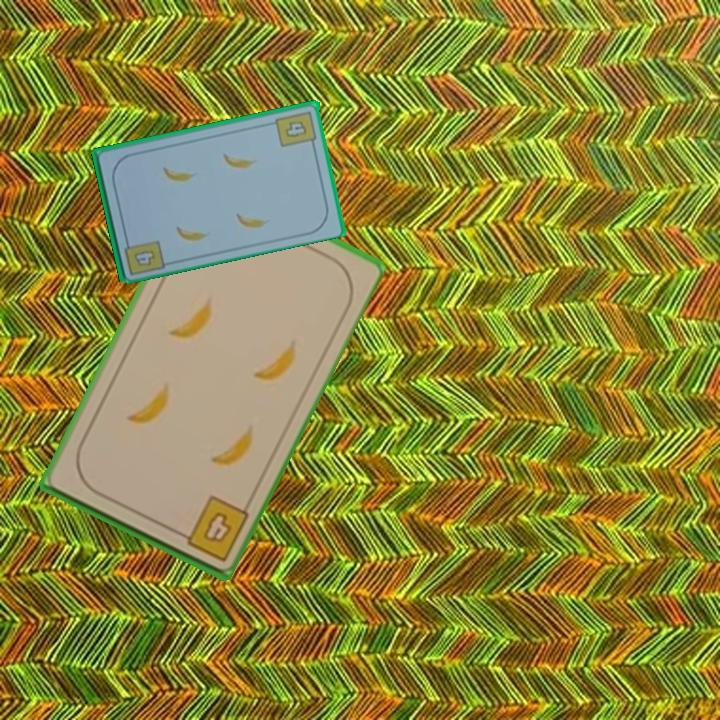4b: (171, 491, 251, 565), (120, 233, 167, 278), (273, 107, 320, 150)
